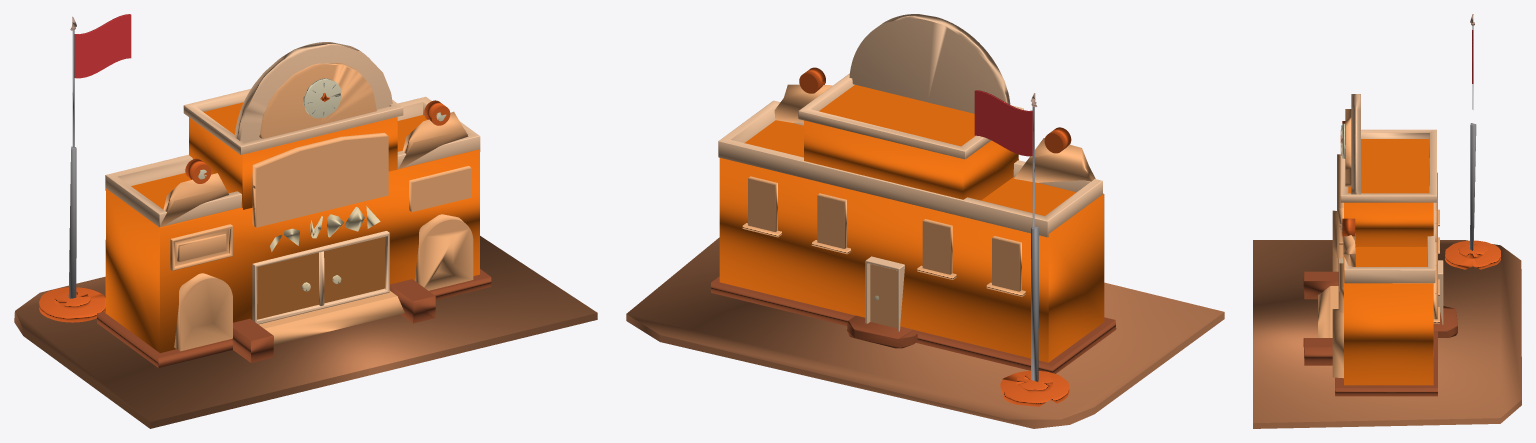
Rendered from School1.glb.
The picture shows the model from 3 angles, left to right: view 1: azimuth 30°, elevation 25°; view 2: azimuth 150°, elevation 25°; view 3: azimuth 270°, elevation 25°; orthographic projection. The views are drawn at different scales.
Visible parts, largest first — view 1: Obj3d66-18142233-15-99; view 2: Obj3d66-18142233-15-99; view 3: Obj3d66-18142233-15-99.
Part boxes in pixels (x1,y1,x2,y2): Obj3d66-18142233-15-99: (14, 14, 597, 428); Obj3d66-18142233-15-99: (626, 14, 1224, 428); Obj3d66-18142233-15-99: (1253, 14, 1521, 428).
Size of the model in its own units: 1.35 by 0.8728 by 0.8384.
Materials: 1 (1 with a texture image).
